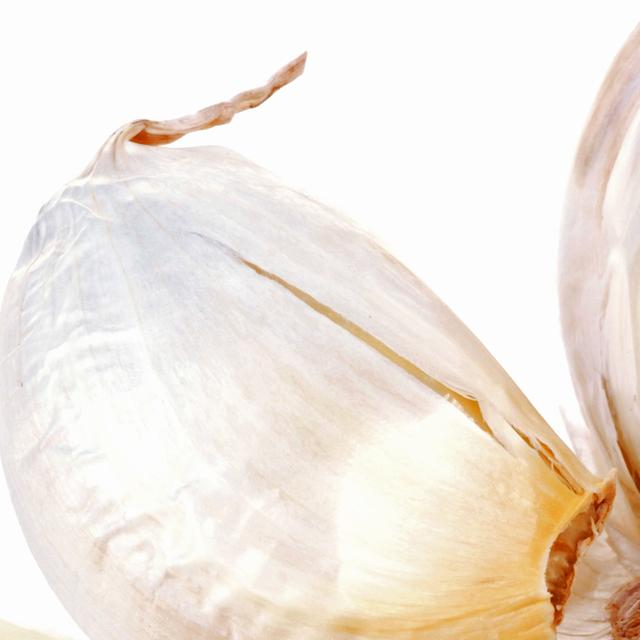garlic: (0, 97, 556, 640)
